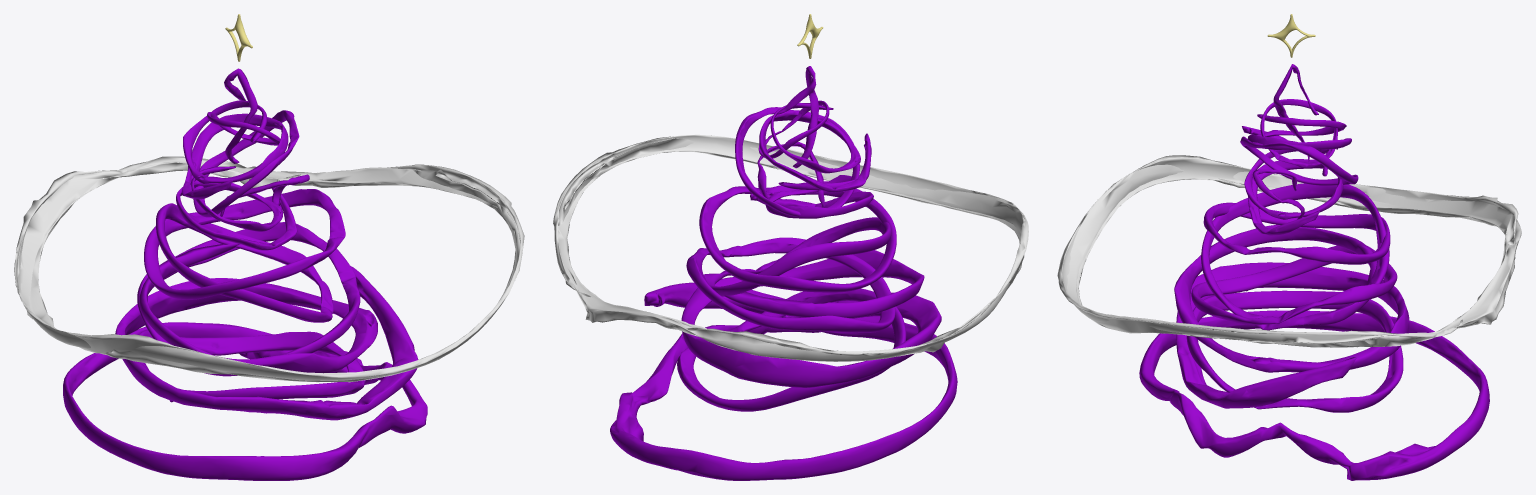
Rendered from testtre.glb.
3 renders of one model, left to right at view 1: azimuth 30°, elevation 25°; view 2: azimuth 150°, elevation 25°; view 3: azimuth 270°, elevation 25°, orthographic. The views are drawn at different scales.
Parts seen in each view (by area): view 1: tripo_node_e7e09e58-2e43-481d-bd8e-657e9cb252f1.012, tripo_node_e7e09e58-2e43-481d-bd8e-657e9cb252f1.003, tripo_node_e7e09e58-2e43-481d-bd8e-657e9cb252f1.004, tripo_node_e7e09e58-2e43-481d-bd8e-657e9cb252f1.015, tripo_node_e7e09e58-2e43-481d-bd8e-657e9cb252f1, tripo_node_e7e09e58-2e43-481d-bd8e-657e9cb252f1.013, tripo_node_e7e09e58-2e43-481d-bd8e-657e9cb252f1.018, tripo_node_e7e09e58-2e43-481d-bd8e-657e9cb252f1.005, tripo_node_e7e09e58-2e43-481d-bd8e-657e9cb252f1.016, tripo_node_e7e09e58-2e43-481d-bd8e-657e9cb252f1.017, tripo_node_e7e09e58-2e43-481d-bd8e-657e9cb252f1.021, tripo_node_e7e09e58-2e43-481d-bd8e-657e9cb252f1.020 (+1 smaller); view 2: tripo_node_e7e09e58-2e43-481d-bd8e-657e9cb252f1.012, tripo_node_e7e09e58-2e43-481d-bd8e-657e9cb252f1.003, tripo_node_e7e09e58-2e43-481d-bd8e-657e9cb252f1.004, tripo_node_e7e09e58-2e43-481d-bd8e-657e9cb252f1.005, tripo_node_e7e09e58-2e43-481d-bd8e-657e9cb252f1, tripo_node_e7e09e58-2e43-481d-bd8e-657e9cb252f1.015, tripo_node_e7e09e58-2e43-481d-bd8e-657e9cb252f1.013, tripo_node_e7e09e58-2e43-481d-bd8e-657e9cb252f1.018, tripo_node_e7e09e58-2e43-481d-bd8e-657e9cb252f1.016, tripo_node_e7e09e58-2e43-481d-bd8e-657e9cb252f1.017, tripo_node_e7e09e58-2e43-481d-bd8e-657e9cb252f1.021, tripo_node_e7e09e58-2e43-481d-bd8e-657e9cb252f1.020 (+1 smaller); view 3: tripo_node_e7e09e58-2e43-481d-bd8e-657e9cb252f1.012, tripo_node_e7e09e58-2e43-481d-bd8e-657e9cb252f1.003, tripo_node_e7e09e58-2e43-481d-bd8e-657e9cb252f1.004, tripo_node_e7e09e58-2e43-481d-bd8e-657e9cb252f1, tripo_node_e7e09e58-2e43-481d-bd8e-657e9cb252f1.013, tripo_node_e7e09e58-2e43-481d-bd8e-657e9cb252f1.005, tripo_node_e7e09e58-2e43-481d-bd8e-657e9cb252f1.015, tripo_node_e7e09e58-2e43-481d-bd8e-657e9cb252f1.016, tripo_node_e7e09e58-2e43-481d-bd8e-657e9cb252f1.018, tripo_node_e7e09e58-2e43-481d-bd8e-657e9cb252f1.017, tripo_node_e7e09e58-2e43-481d-bd8e-657e9cb252f1.020, tripo_node_e7e09e58-2e43-481d-bd8e-657e9cb252f1.021 (+1 smaller).
Part boxes in pixels (x1,y1,x2,y2): tripo_node_e7e09e58-2e43-481d-bd8e-657e9cb252f1.012: (14, 156, 524, 382); tripo_node_e7e09e58-2e43-481d-bd8e-657e9cb252f1.003: (115, 243, 418, 420); tripo_node_e7e09e58-2e43-481d-bd8e-657e9cb252f1.004: (63, 322, 427, 480); tripo_node_e7e09e58-2e43-481d-bd8e-657e9cb252f1.015: (144, 189, 345, 299); tripo_node_e7e09e58-2e43-481d-bd8e-657e9cb252f1: (138, 330, 365, 399); tripo_node_e7e09e58-2e43-481d-bd8e-657e9cb252f1.013: (156, 203, 333, 322); tripo_node_e7e09e58-2e43-481d-bd8e-657e9cb252f1.018: (182, 100, 288, 199); tripo_node_e7e09e58-2e43-481d-bd8e-657e9cb252f1.005: (137, 222, 360, 376); tripo_node_e7e09e58-2e43-481d-bd8e-657e9cb252f1.016: (176, 166, 297, 250); tripo_node_e7e09e58-2e43-481d-bd8e-657e9cb252f1.017: (193, 110, 299, 217); tripo_node_e7e09e58-2e43-481d-bd8e-657e9cb252f1.021: (224, 68, 257, 163); tripo_node_e7e09e58-2e43-481d-bd8e-657e9cb252f1.020: (207, 112, 280, 145); tripo_node_e7e09e58-2e43-481d-bd8e-657e9cb252f1.012: (553, 134, 1028, 361); tripo_node_e7e09e58-2e43-481d-bd8e-657e9cb252f1.003: (644, 250, 941, 387); tripo_node_e7e09e58-2e43-481d-bd8e-657e9cb252f1.004: (610, 316, 957, 480); tripo_node_e7e09e58-2e43-481d-bd8e-657e9cb252f1.005: (686, 237, 895, 332); tripo_node_e7e09e58-2e43-481d-bd8e-657e9cb252f1: (677, 288, 906, 411); tripo_node_e7e09e58-2e43-481d-bd8e-657e9cb252f1.015: (699, 181, 896, 292); tripo_node_e7e09e58-2e43-481d-bd8e-657e9cb252f1.013: (704, 217, 891, 296); tripo_node_e7e09e58-2e43-481d-bd8e-657e9cb252f1.018: (759, 102, 871, 192); tripo_node_e7e09e58-2e43-481d-bd8e-657e9cb252f1.016: (750, 175, 873, 218); tripo_node_e7e09e58-2e43-481d-bd8e-657e9cb252f1.017: (735, 107, 859, 216); tripo_node_e7e09e58-2e43-481d-bd8e-657e9cb252f1.021: (777, 66, 818, 168); tripo_node_e7e09e58-2e43-481d-bd8e-657e9cb252f1.020: (758, 100, 829, 158); tripo_node_e7e09e58-2e43-481d-bd8e-657e9cb252f1.012: (1057, 155, 1521, 347); tripo_node_e7e09e58-2e43-481d-bd8e-657e9cb252f1.003: (1174, 224, 1409, 408); tripo_node_e7e09e58-2e43-481d-bd8e-657e9cb252f1.004: (1139, 310, 1489, 480); tripo_node_e7e09e58-2e43-481d-bd8e-657e9cb252f1: (1186, 290, 1403, 412); tripo_node_e7e09e58-2e43-481d-bd8e-657e9cb252f1.013: (1201, 183, 1389, 330); tripo_node_e7e09e58-2e43-481d-bd8e-657e9cb252f1.005: (1191, 245, 1397, 325); tripo_node_e7e09e58-2e43-481d-bd8e-657e9cb252f1.015: (1203, 202, 1390, 264); tripo_node_e7e09e58-2e43-481d-bd8e-657e9cb252f1.016: (1244, 149, 1343, 235); tripo_node_e7e09e58-2e43-481d-bd8e-657e9cb252f1.018: (1242, 114, 1351, 153); tripo_node_e7e09e58-2e43-481d-bd8e-657e9cb252f1.017: (1240, 136, 1358, 185); tripo_node_e7e09e58-2e43-481d-bd8e-657e9cb252f1.020: (1260, 99, 1337, 168); tripo_node_e7e09e58-2e43-481d-bd8e-657e9cb252f1.021: (1273, 64, 1318, 162).
Size of the model in its own units: 1.09 by 1.05 by 1.11.
